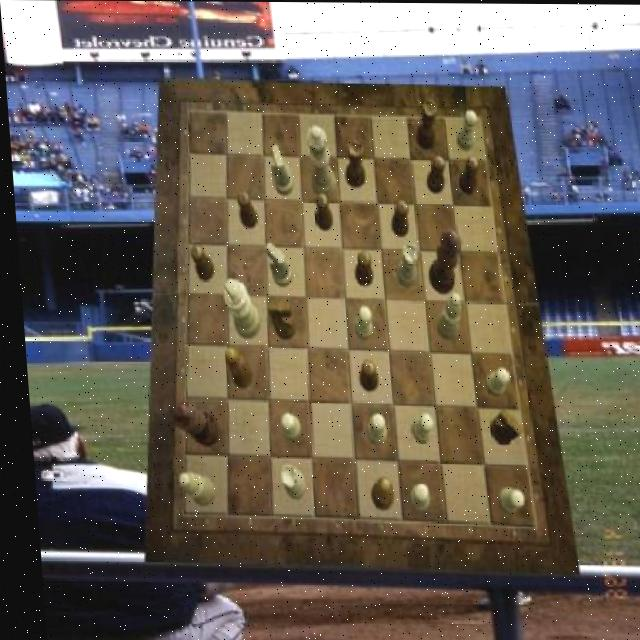bishop: (219, 349, 247, 389), (362, 477, 387, 512)
black-bishop: (165, 401, 213, 446)
black-king: (483, 407, 518, 445), (263, 301, 292, 340)
black-knight: (185, 244, 210, 282), (454, 156, 478, 195), (421, 155, 444, 192), (233, 191, 255, 228), (386, 201, 407, 237), (311, 192, 330, 231), (349, 251, 369, 286), (352, 360, 373, 393)
black-pawn: (421, 229, 460, 294)
black-queen: (412, 99, 438, 150), (341, 140, 363, 187)
black-rook: (429, 293, 458, 340), (170, 472, 208, 506)
white-bishop: (217, 278, 256, 338)
white-king: (260, 241, 287, 287), (268, 143, 291, 195)
white-knight: (452, 110, 476, 152), (478, 367, 504, 396), (403, 413, 427, 444), (488, 487, 516, 513), (358, 413, 380, 445), (400, 482, 422, 513), (348, 305, 367, 340), (273, 412, 295, 440)
white-pawn: (304, 125, 334, 199)
white-queen: (390, 244, 415, 288), (273, 465, 300, 499)
